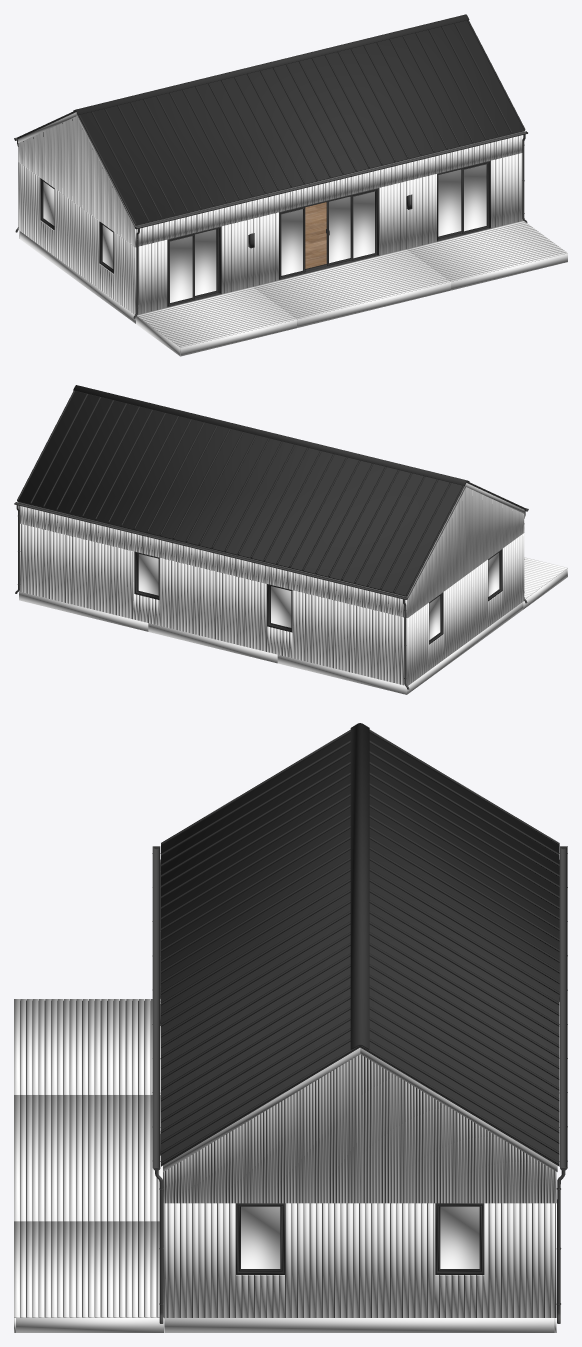
Rendered from Cabin1.glb.
3 renders of one model, top to bottom at view 1: azimuth 30°, elevation 25°; view 2: azimuth 150°, elevation 25°; view 3: azimuth 270°, elevation 25°, orthographic. The views are drawn at different scales.
Parts seen in each view (by area): view 1: Roof, Planks_outside, Platform, Slide_doors, Platform.001, Central_doors.001, Base, Gutter, Central_doors, Floor, Windows, Roof.001; view 2: Roof, Planks_outside, Platform.001, Base, Windows, Gutter, Roof.001, Platform; view 3: Roof, Planks_outside, Platform, Base, Platform.001, Windows, Gutter, Roof.001.
Part boxes in pixels (x1=…): Roof: x1=17, y1=14, x2=525, y2=225; Planks_outside: x1=18, y1=116, x2=523, y2=314; Platform: x1=137, y1=220, x2=567, y2=347; Slide_doors: x1=167, y1=160, x2=491, y2=307; Platform.001: x1=19, y1=231, x2=567, y2=356; Central_doors.001: x1=279, y1=188, x2=379, y2=279; Base: x1=99, y1=136, x2=518, y2=310; Gutter: x1=14, y1=131, x2=527, y2=318; Central_doors: x1=326, y1=196, x2=350, y2=265; Floor: x1=305, y1=202, x2=326, y2=268; Windows: x1=40, y1=178, x2=113, y2=273; Roof.001: x1=18, y1=112, x2=523, y2=228; Roof: x1=17, y1=385, x2=525, y2=596; Planks_outside: x1=19, y1=487, x2=524, y2=685; Platform.001: x1=19, y1=568, x2=567, y2=694; Base: x1=19, y1=506, x2=502, y2=684; Windows: x1=134, y1=549, x2=502, y2=644; Gutter: x1=14, y1=502, x2=528, y2=689; Roof.001: x1=18, y1=483, x2=524, y2=599; Platform: x1=524, y1=557, x2=567, y2=598; Roof: x1=161, y1=723, x2=559, y2=1166; Planks_outside: x1=163, y1=1054, x2=556, y2=1317; Platform: x1=14, y1=999, x2=163, y2=1317; Base: x1=164, y1=1055, x2=555, y2=1317; Platform.001: x1=14, y1=999, x2=556, y2=1332; Windows: x1=236, y1=1203, x2=484, y2=1274; Gutter: x1=152, y1=846, x2=567, y2=1323; Roof.001: x1=163, y1=1047, x2=557, y2=1171.
Size of the model in its own units: 12.39 by 5.17 by 8.97.
14 materials, 1 textured.
